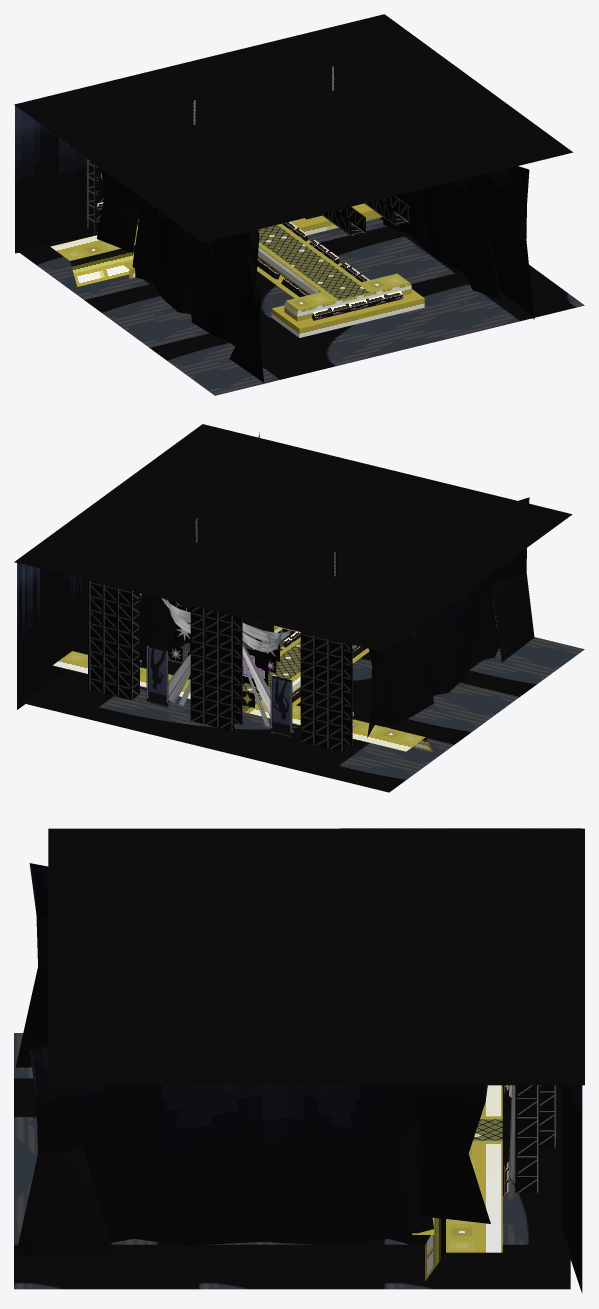
The picture shows the model from 3 angles, top to bottom: view 1: azimuth 30°, elevation 25°; view 2: azimuth 150°, elevation 25°; view 3: azimuth 270°, elevation 25°; orthographic projection. The views are drawn at different scales.
Parts seen in each view (by area): view 1: Fas02; view 2: Fas02; view 3: Fas02.
Boxes of the visible parts, x1=… form: Fas02: x1=14, y1=14, x2=584, y2=395; Fas02: x1=14, y1=424, x2=584, y2=792; Fas02: x1=14, y1=828, x2=584, y2=1293.
Size of the model in its own units: 8.3 by 3.7 by 7.79.
25 materials, 25 textured.
